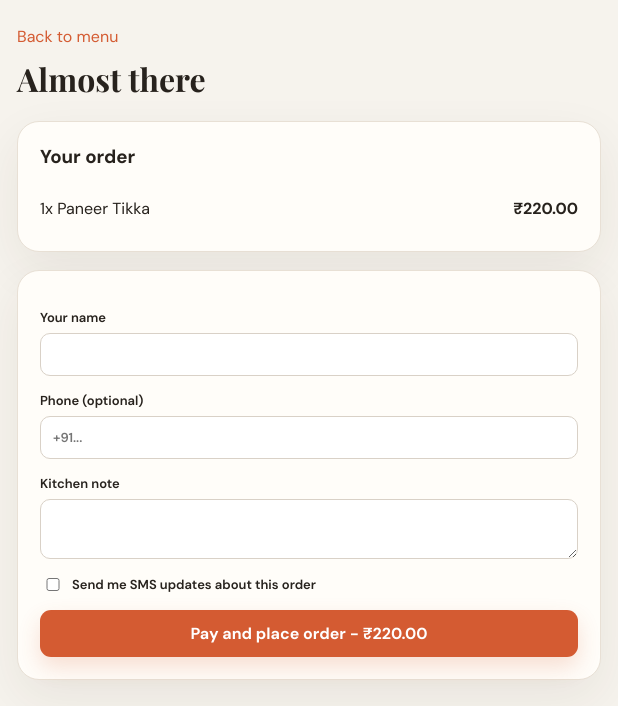
Scenario: GuestCheckout › lands on the tracking page, not the menu, after payment is verified
This screenshot has width=618, height=706.
Type "Anshu" into the field labelled "Your name". click: coordinates (309, 355)
box: 40,333 -> 578,376
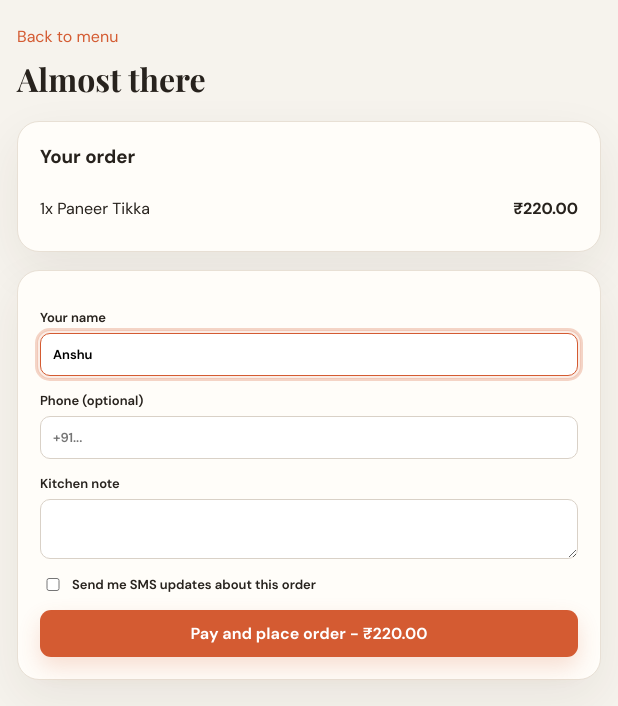
Click the button "Pay and place order - ₹220.00". click: coordinates (309, 634)
box: 40,610 -> 578,657
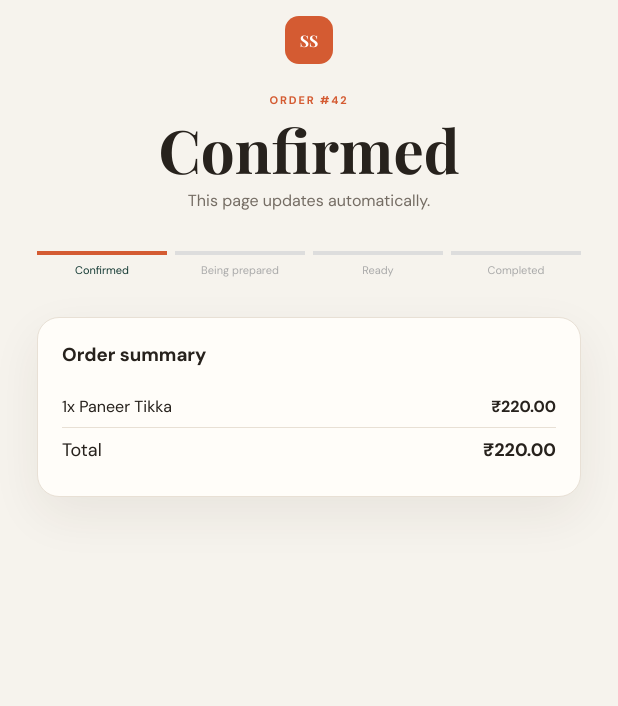
Result: the text "ORDER #42" is shown at 270,93 -> 349,107
